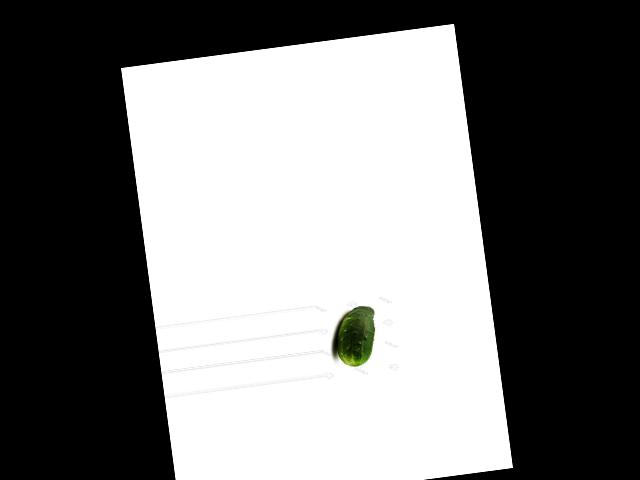cucumber: (331, 304, 380, 369)
